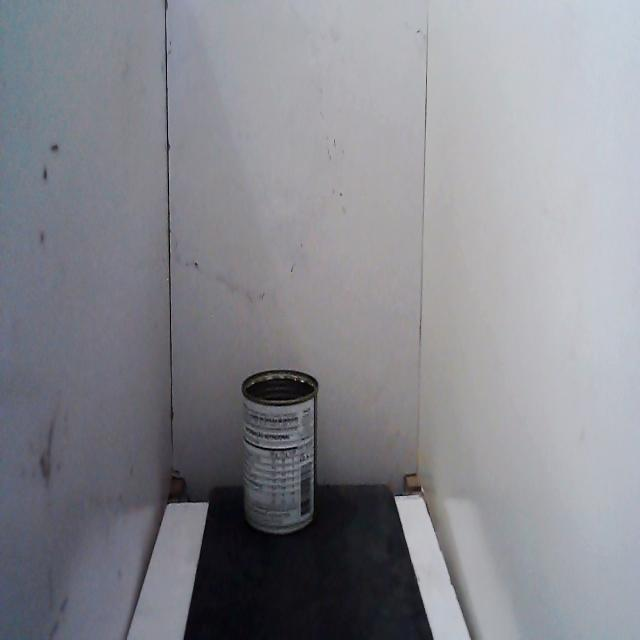metal: (235, 358, 326, 554)
